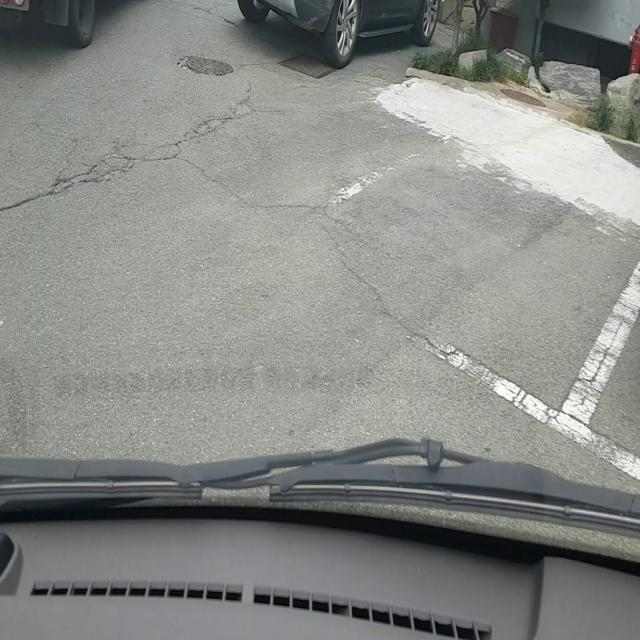Pothole: (176, 54, 235, 77)
